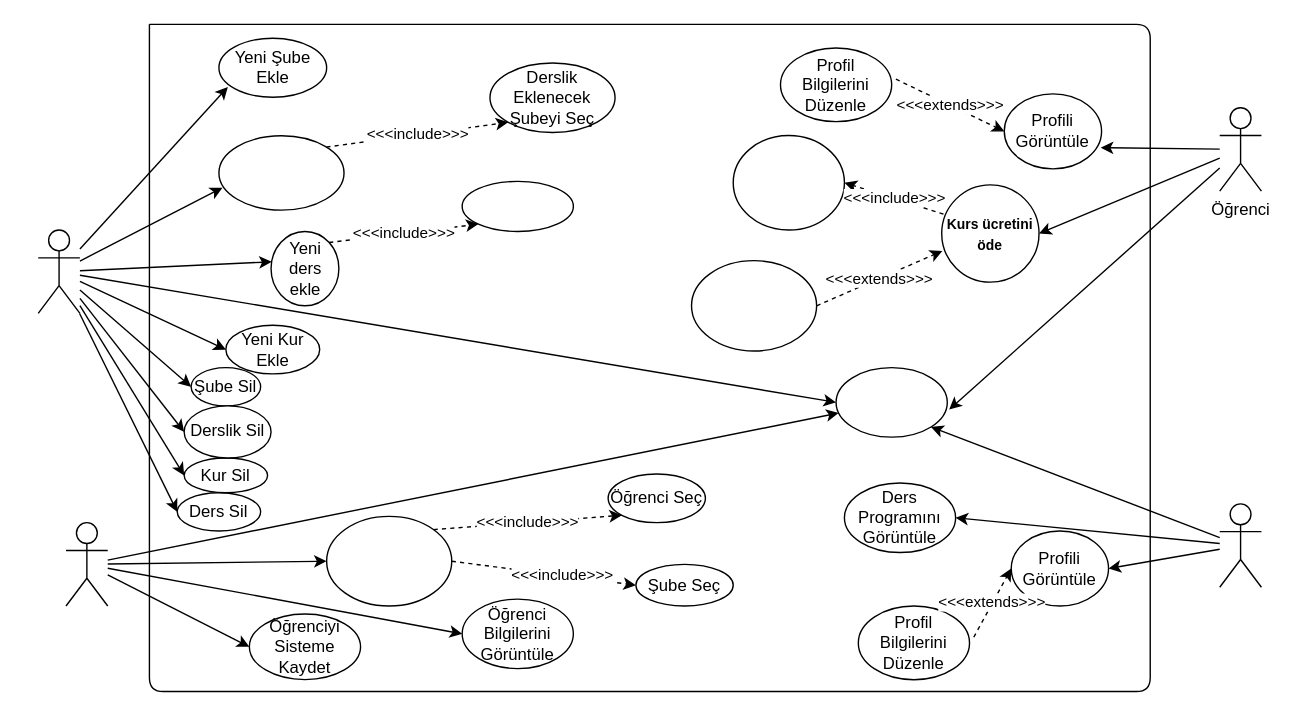
Some shapes in this 1301 by 717 pixel diagram are drawn without their labels. The centre of each missing label's shape, as x and y in pixels:
Dersin Dilini Seç: the point at 517,205
Kayıt Elemanı: the point at 86,563
Sistem Yöneticisi: the point at 58,271
Yeni Derslik Ekle: the point at 281,172
Ödeme Seçeneğini belirle: the point at 788,182
Ödenmemiş Taksitleri Görüntüle: the point at 753,305
Öğrenciyi Şubeye kaydet: the point at 388,560
Öğretmen: the point at 1239,544
Şubeleri Görüntüle: the point at 891,401
